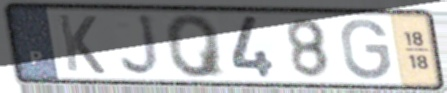4: (228, 13, 281, 81)
8: (284, 17, 335, 81)
G: (338, 16, 394, 82)
J: (117, 12, 164, 79)
K: (55, 12, 109, 77)
Q: (162, 13, 229, 80)
